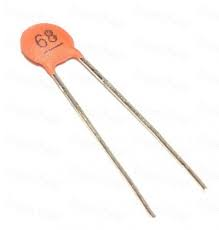ceramic capacitor: (8, 11, 115, 117)
